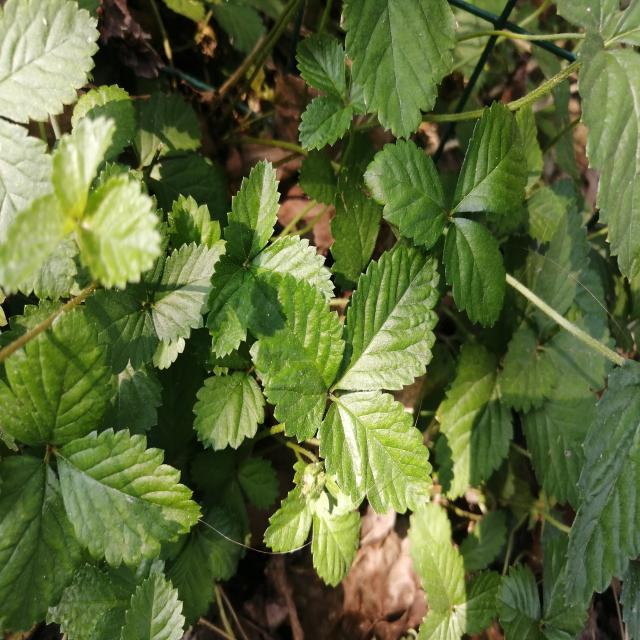Mock_strawberry: (250, 249, 448, 500)
